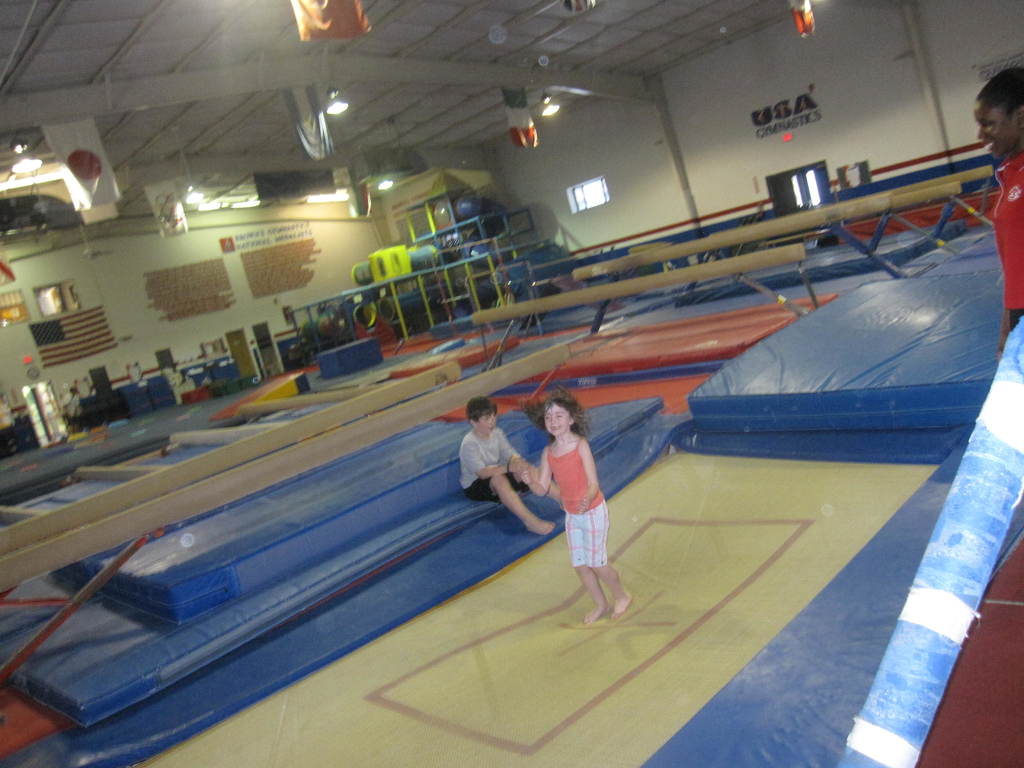Person: (518, 392, 631, 626), (973, 67, 1023, 362), (459, 394, 563, 535)
